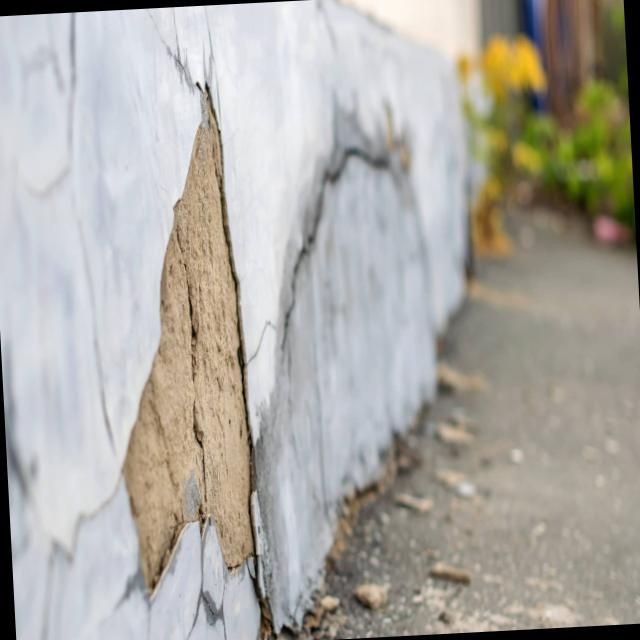crack: (0, 4, 276, 640), (234, 139, 398, 369)
